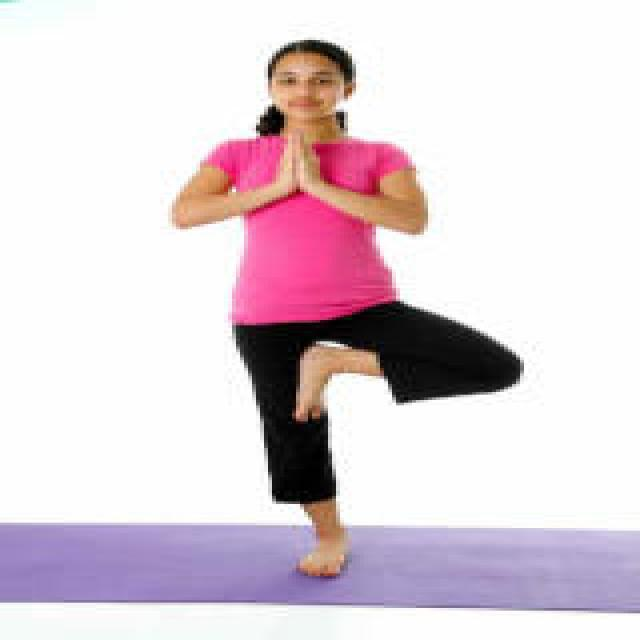yoga-pose tree: (165, 34, 521, 585)
